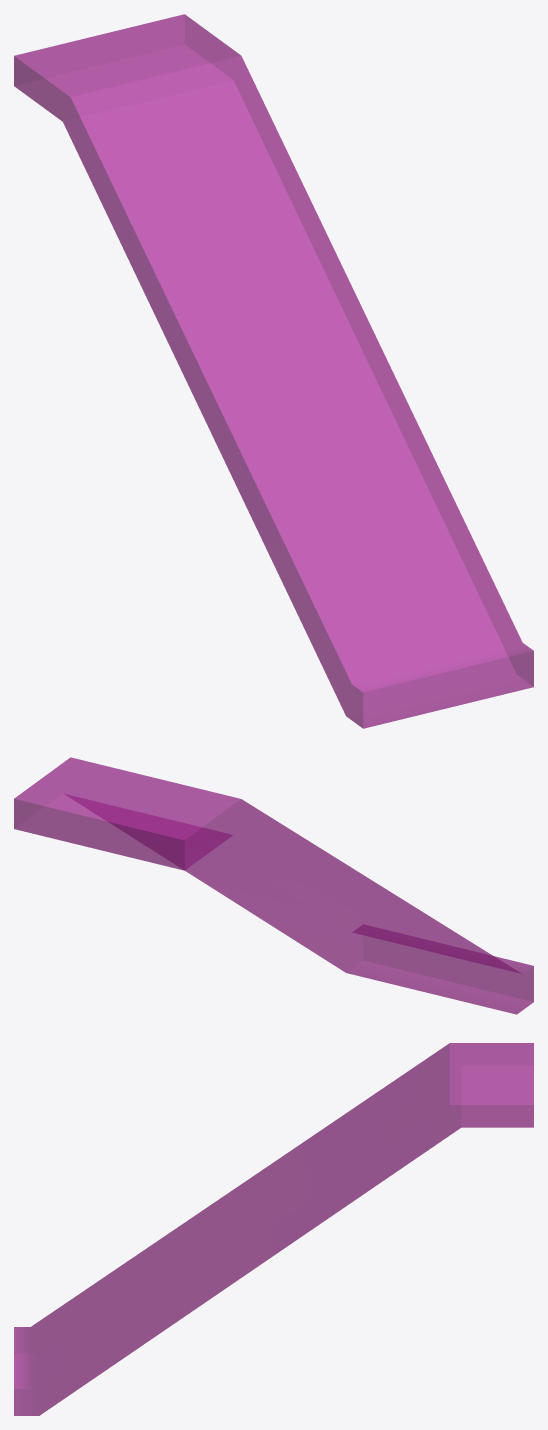
The model's file is SM_Bld_Stairs_02_Collision.fbx.
3 renders of one model, top to bottom at view 1: azimuth 30°, elevation 25°; view 2: azimuth 150°, elevation 25°; view 3: azimuth 270°, elevation 25°, orthographic. The views are drawn at different scales.
Visible parts, largest first — view 1: SM_Bld_Stairs_02_Collision; view 2: SM_Bld_Stairs_02_Collision; view 3: SM_Bld_Stairs_02_Collision.
Boxes of the visible parts, box(x1,y1,x2,y2) form: SM_Bld_Stairs_02_Collision: box(14, 14, 533, 728); SM_Bld_Stairs_02_Collision: box(14, 757, 533, 1014); SM_Bld_Stairs_02_Collision: box(14, 1043, 533, 1415).
Bounding box in the file's own units: 193 × 451 × 684.
